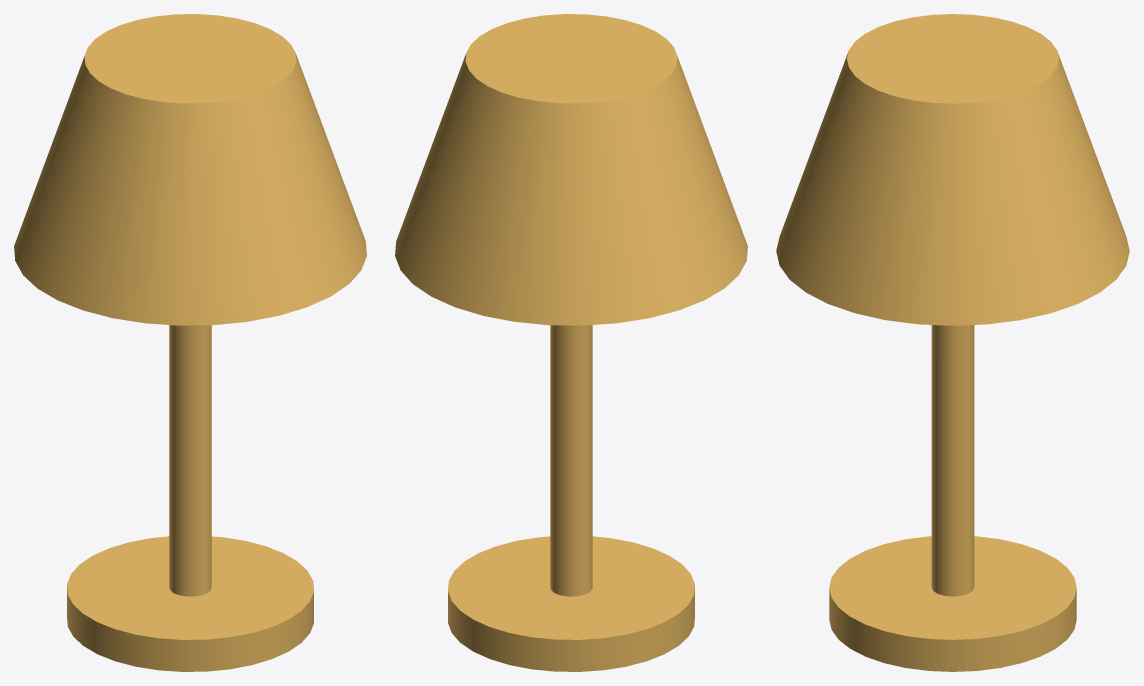
3 renders of one model, left to right at view 1: azimuth 30°, elevation 25°; view 2: azimuth 150°, elevation 25°; view 3: azimuth 270°, elevation 25°, orthographic.
Size of the model in its own units: 0.2 by 0.35 by 0.2.
